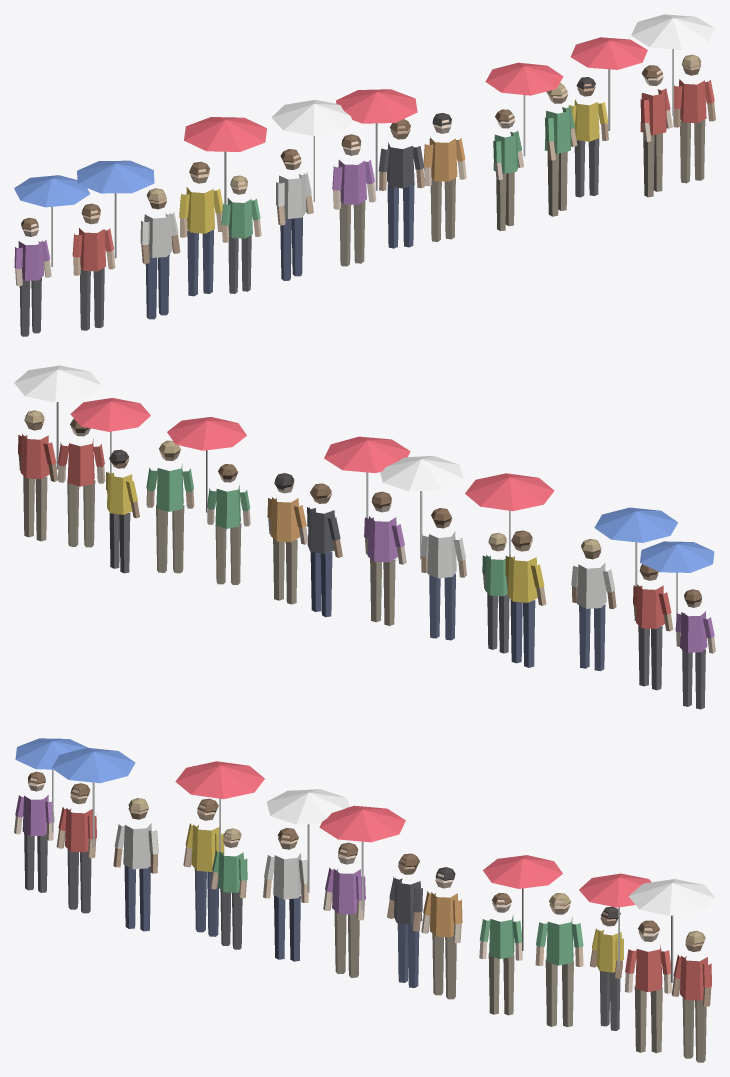
The model's file is crowd_row_rain.glb.
3 renders of one model, top to bottom at view 1: azimuth 30°, elevation 25°; view 2: azimuth 150°, elevation 25°; view 3: azimuth 330°, elevation 25°, orthographic. The views are drawn at different scales.
Visible parts, largest first — view 1: crowd_row_rain; view 2: crowd_row_rain; view 3: crowd_row_rain.
Part boxes in pixels (box(x1,y1,x2,y2)): crowd_row_rain: box(14, 14, 715, 336); crowd_row_rain: box(14, 365, 715, 709); crowd_row_rain: box(14, 738, 715, 1062).
Size of the model in its own units: 10.55 by 2.53 by 1.37.
